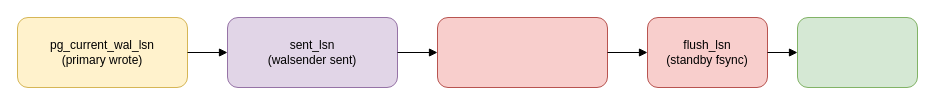
The diagram is 935 pixels wide and 105 high, and some of its shapes have lost their labels. The centre of each missing label's shape, as x and y in pixels:
replay_lsn (visible to queries): pixel 857 52
write_lsn (standby OS received): pixel 522 52
